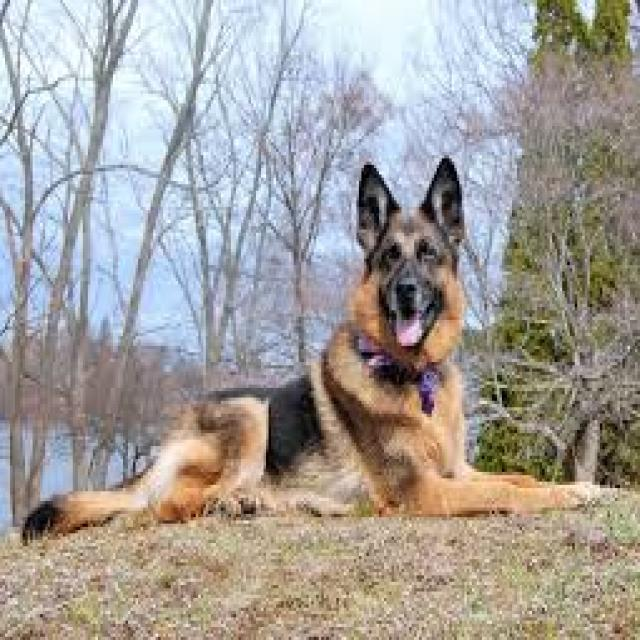Dog: (17, 150, 605, 557)
